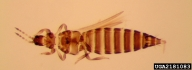Thrips: (13, 20, 168, 63)
